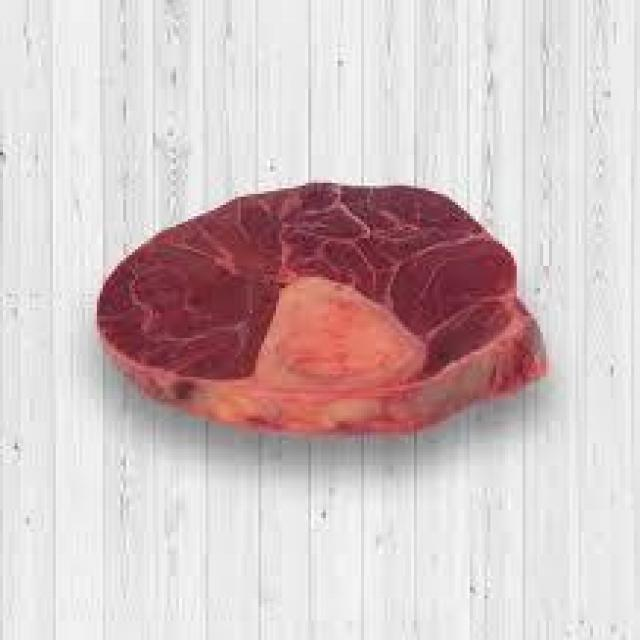beef: (94, 147, 564, 468)
